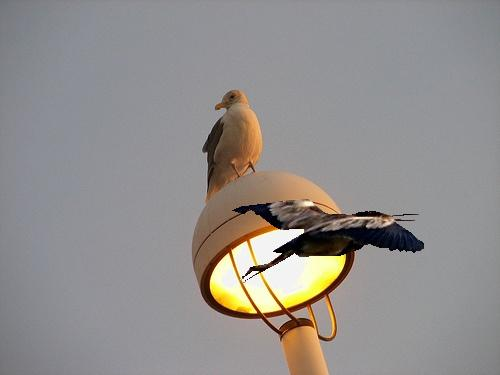tampered: (233, 200, 424, 283)
